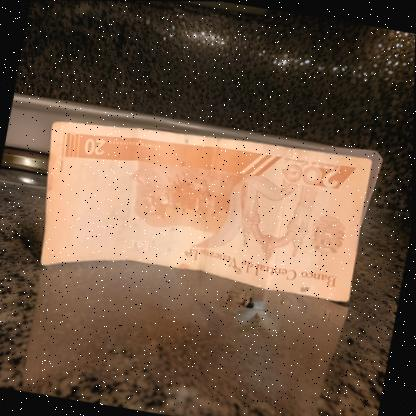twenty-back-vef: (26, 104, 377, 315)
